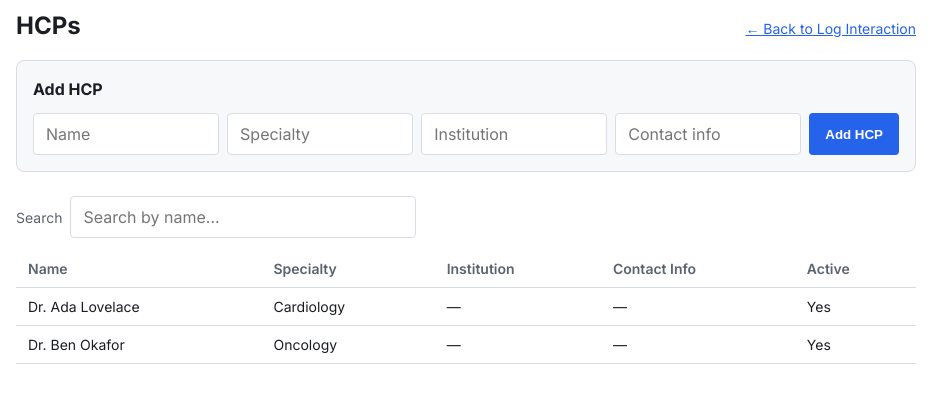
HcpAdminPage › adds a new HCP to the table on create
The image size is (933, 419).
Expected: the text "Dr. Ada Lovelace" is shown, [16,288,262,326]
Type "Dr. Chidi Okonkwo" into the field labelled "Name".
click(126, 134); type("Dr. Chidi Okonkwo")  # box [33,113,219,155]
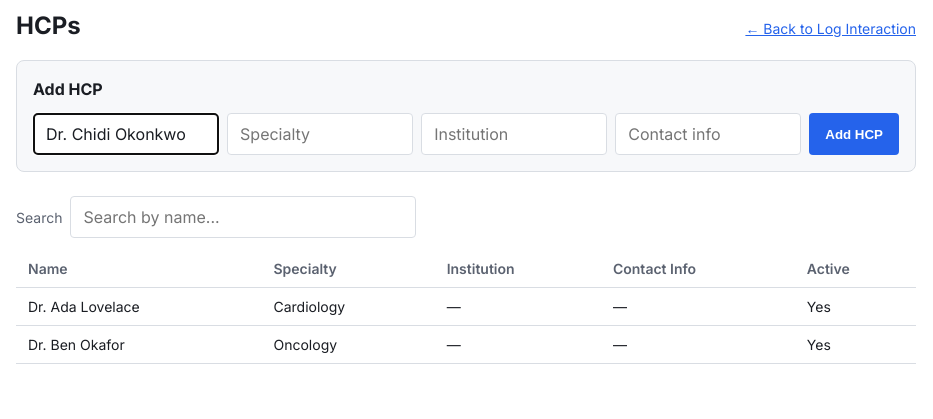
Type "Neurology" into the field labelled "Specialty".
click(320, 134); type("Neurology")  # box [227,113,413,155]
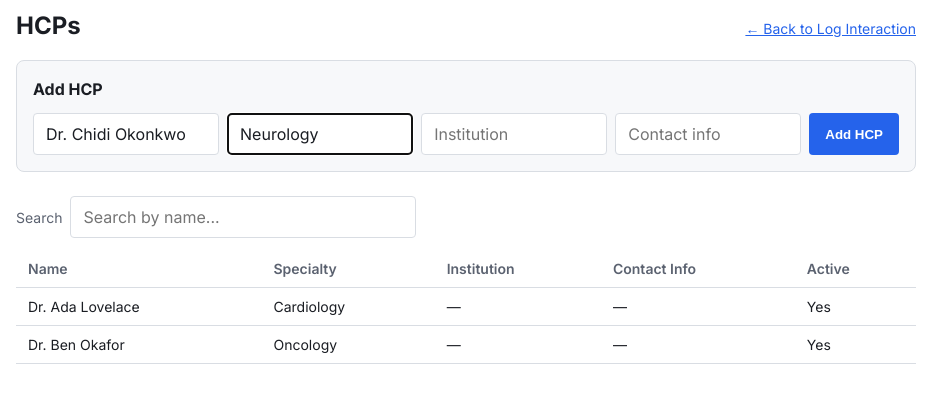
Click the button "Add HCP".
click(854, 134)  # box [809,113,899,155]
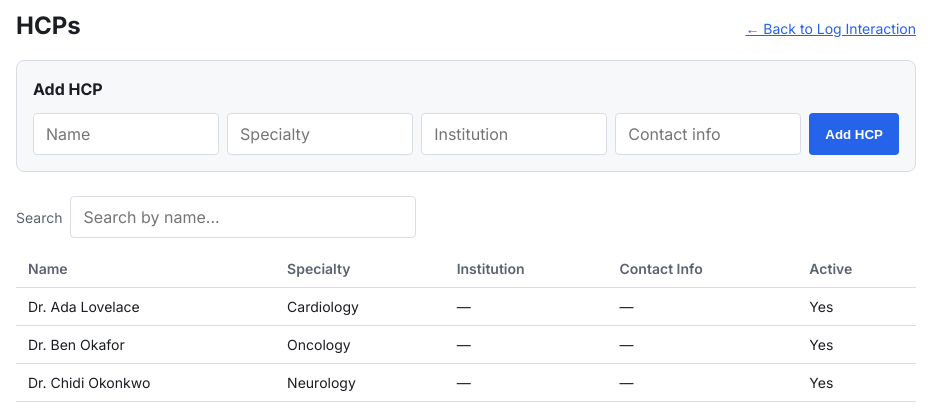
Now the text "Dr. Chidi Okonkwo" is shown, box [16,364,275,402]
Now the text "Neurology" is shown, box [275,364,445,402]
